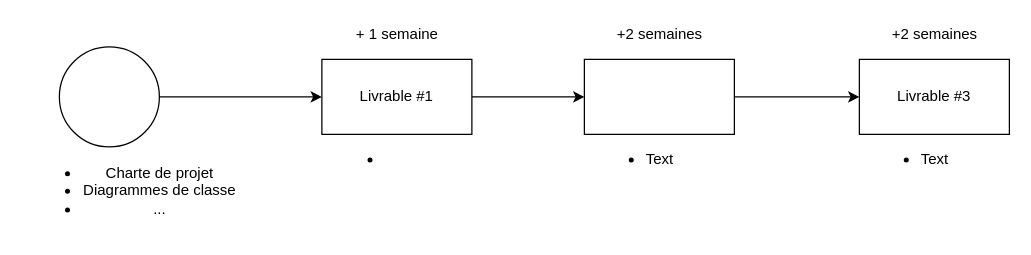
Image size: 1031x255. Some labels were removed from this diagram. The shapes that lost their labels are listed below. From the top down, each one's box as (x1, y1, x2, y2) in pixels, then its label:
(58, 46, 159, 147): Presentement
(583, 58, 734, 134): Livrable #2
